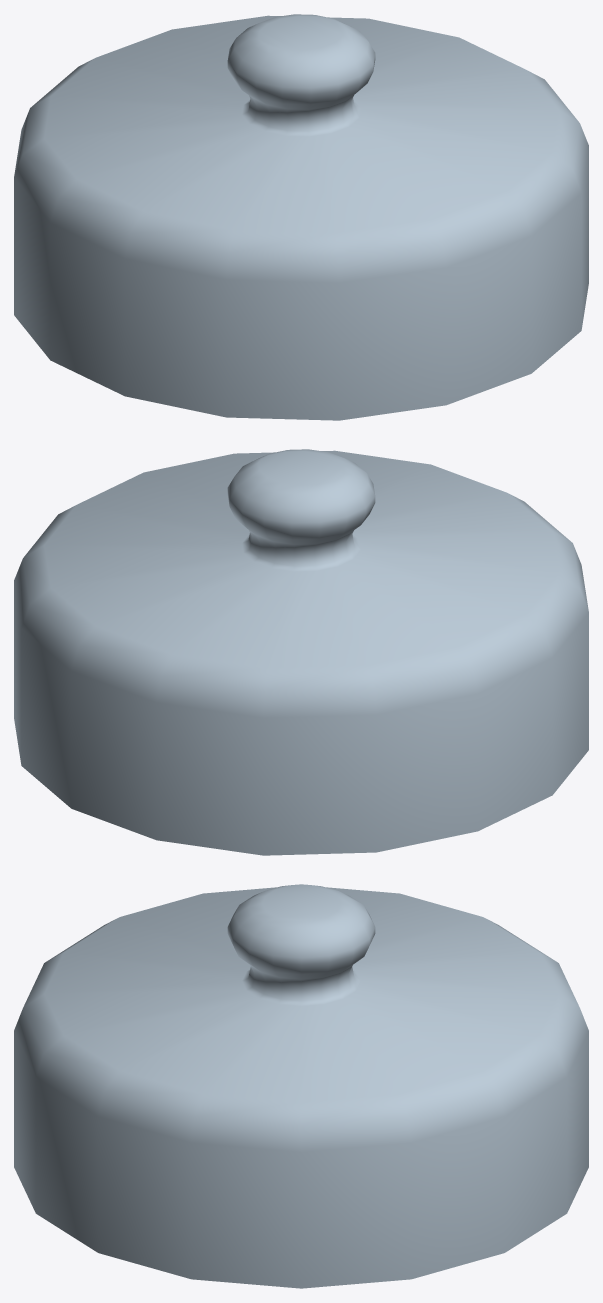
File: shop_cap.fbx
3 views of the same model, one above another, from view 1: azimuth 30°, elevation 25°; view 2: azimuth 150°, elevation 25°; view 3: azimuth 270°, elevation 25° (orthographic).
Visible parts, largest first — view 1: shop_cap; view 2: shop_cap; view 3: shop_cap.
Part boxes in pixels (x1,y1,x2,y2): shop_cap: (14,14,588,420); shop_cap: (14,449,588,855); shop_cap: (14,884,588,1288).
Size of the model in its own units: 36.3 by 18.37 by 36.3.
